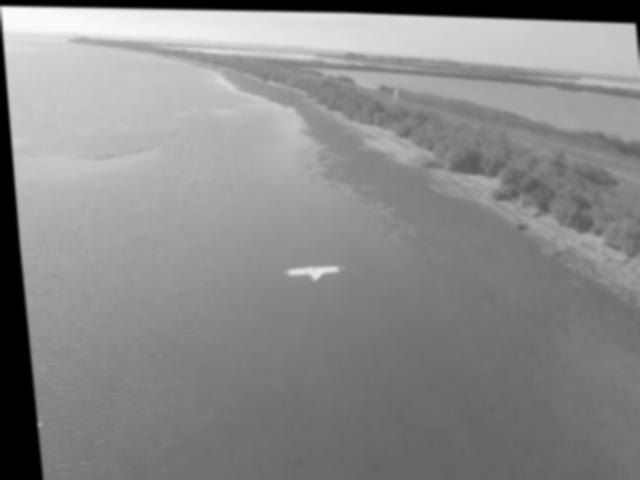hedef: (270, 252, 350, 295)
